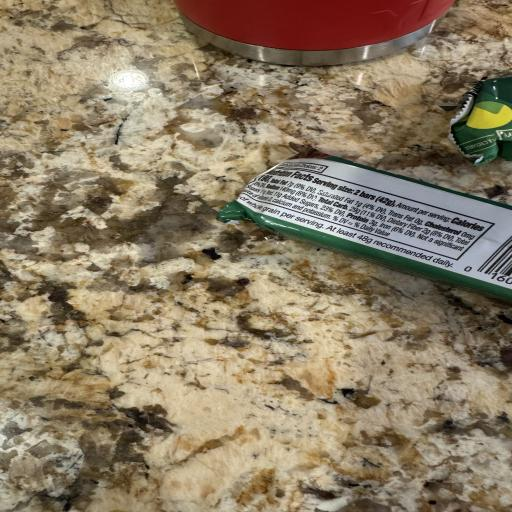chocolate: (449, 78, 511, 165)
granola: (218, 145, 511, 298)
